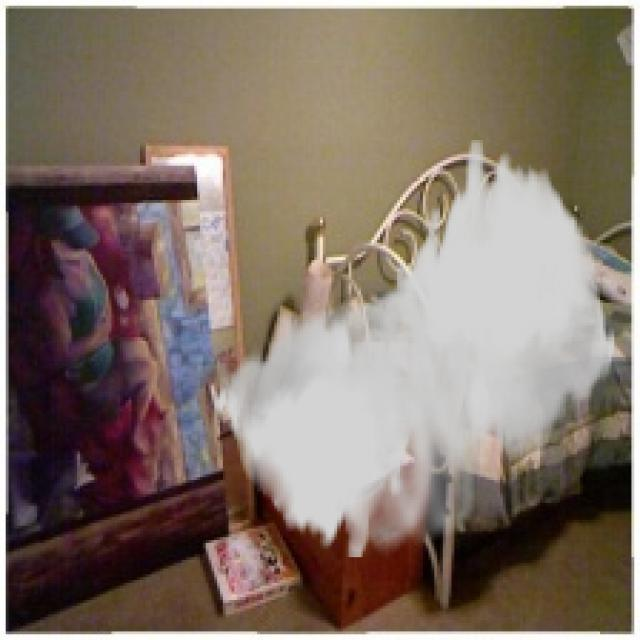smoke: (212, 140, 617, 560)
